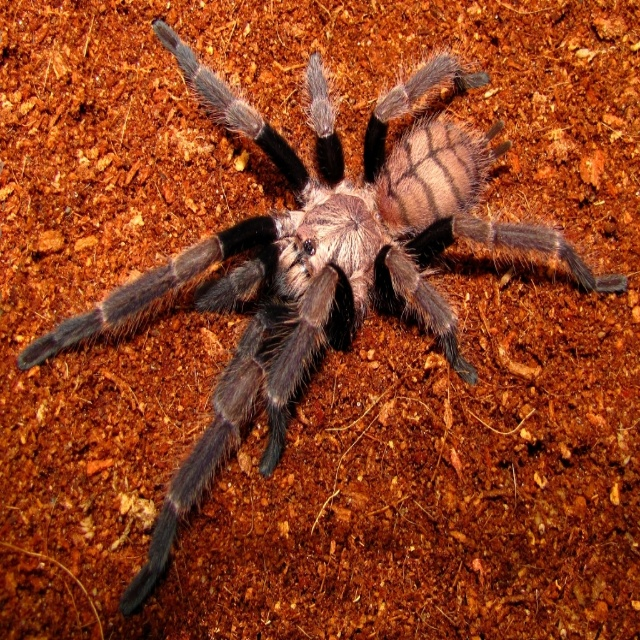Spider: (18, 20, 627, 619)
